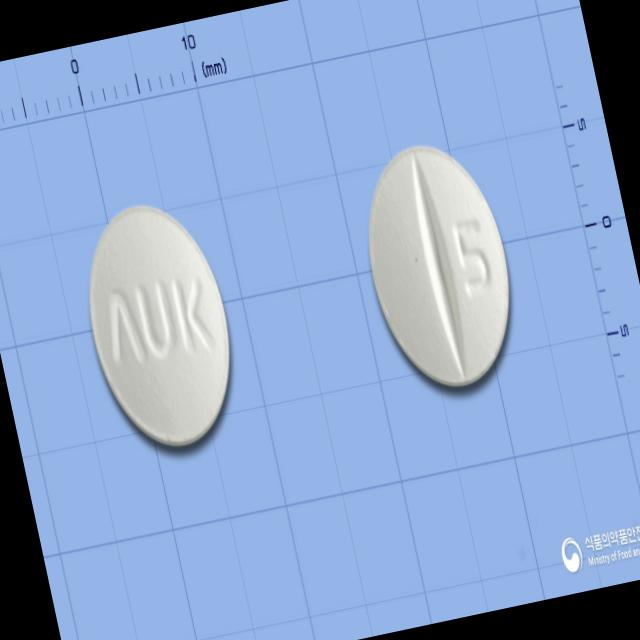Ciprox: (60, 182, 258, 472), (342, 130, 534, 408)
